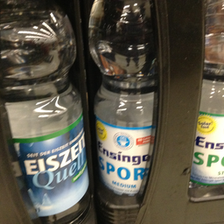water: (1, 1, 89, 224), (87, 1, 155, 197)
